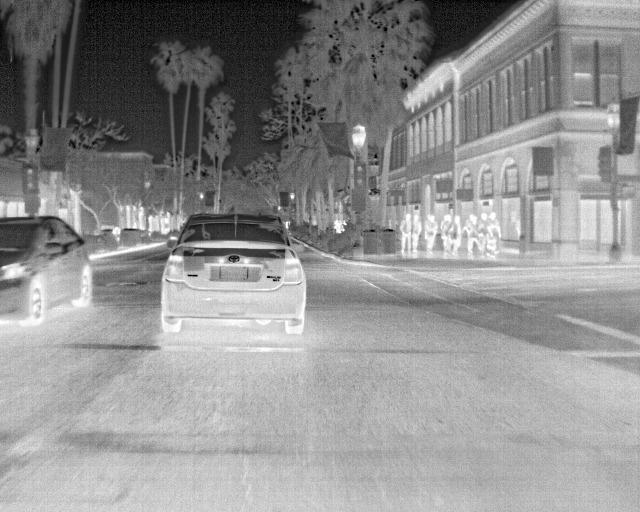bicycle: (160, 209, 307, 331), (0, 213, 96, 321)
empty: (484, 208, 501, 257), (445, 212, 462, 256), (465, 212, 480, 258), (409, 208, 422, 254), (424, 210, 436, 254), (398, 212, 410, 255), (477, 210, 489, 237)
